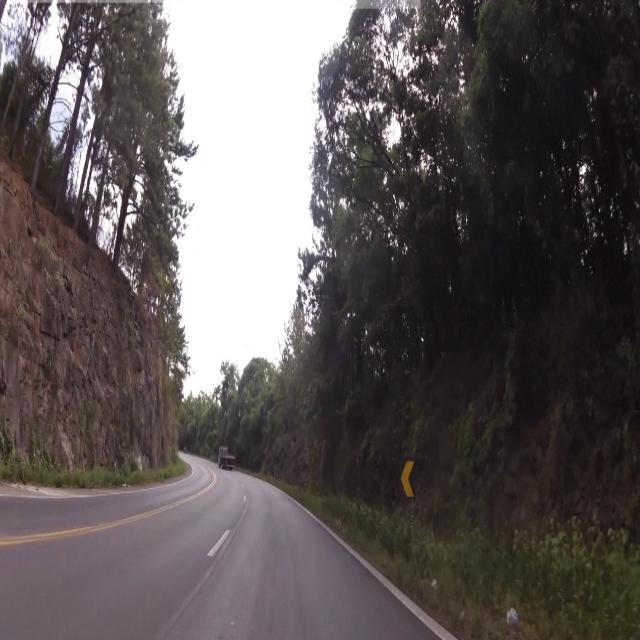Del: (399, 456, 416, 501)
